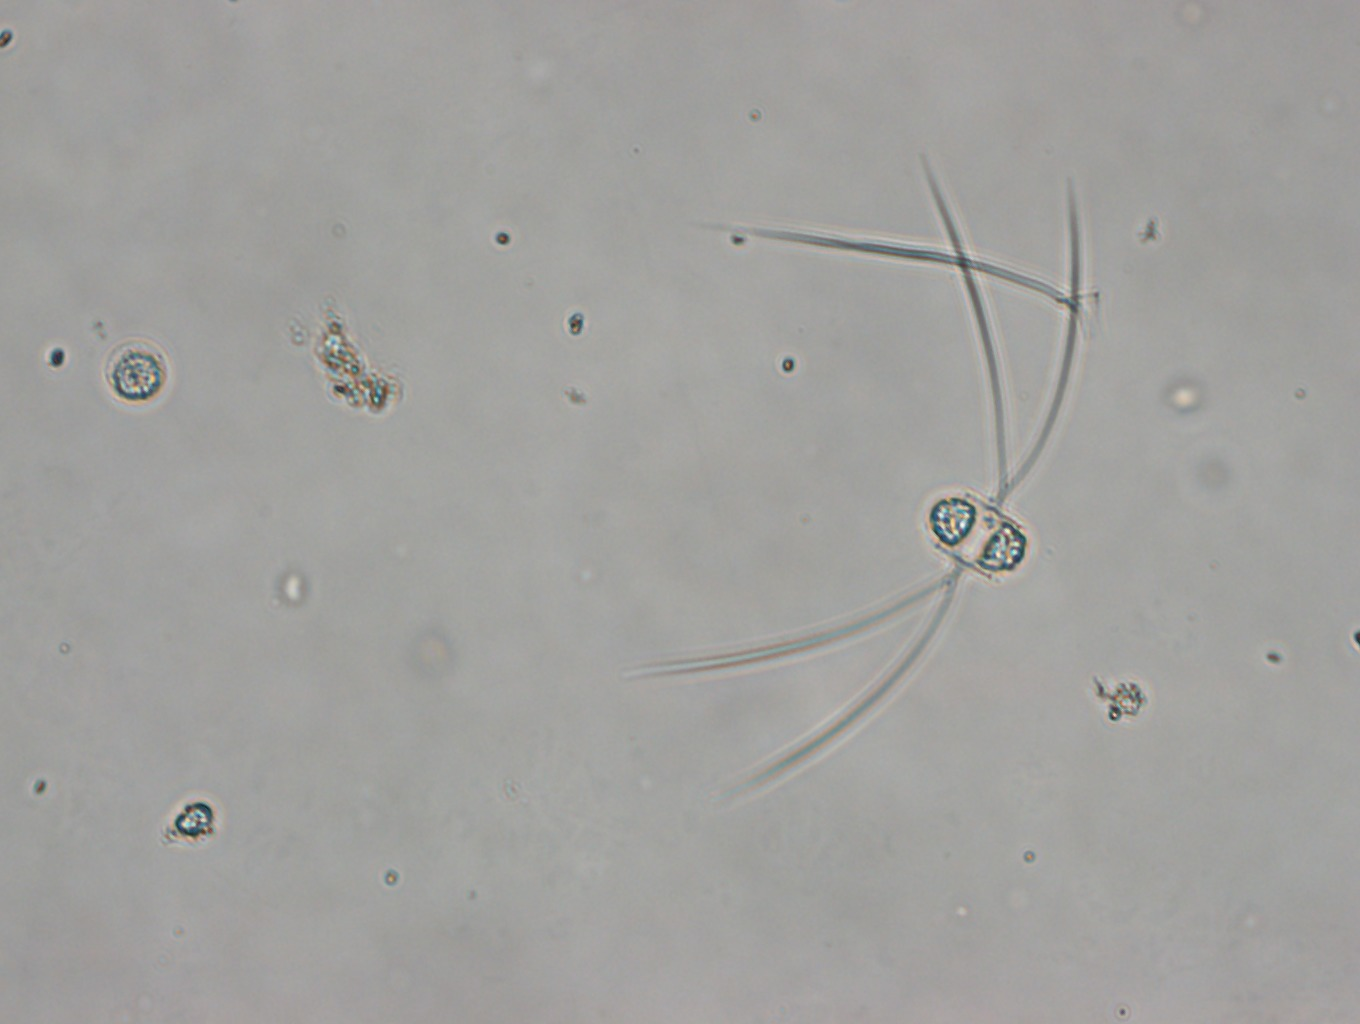chaetoceros: (614, 152, 1085, 802)
